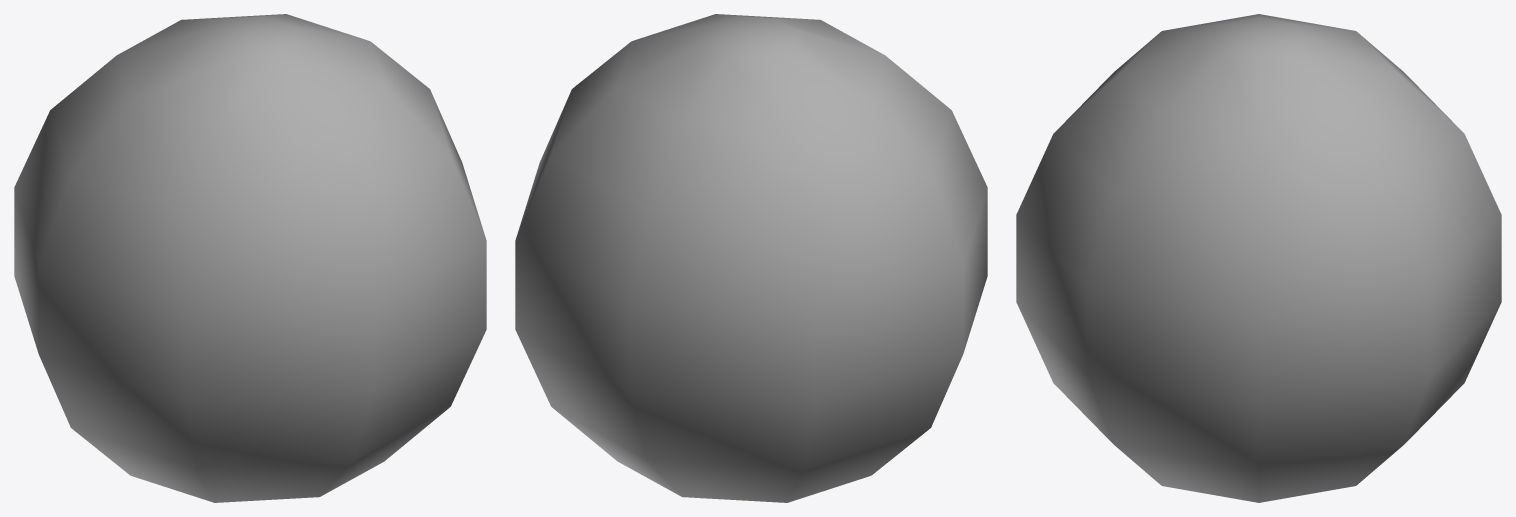
Rendered from Cannonball.fbx.
3 views of the same model, side by side, from view 1: azimuth 30°, elevation 25°; view 2: azimuth 150°, elevation 25°; view 3: azimuth 270°, elevation 25° (orthographic).
Visible parts, largest first — view 1: Cannonball; view 2: Cannonball; view 3: Cannonball.
Boxes of the visible parts, <box> form: Cannonball: <box>14,14,486,502</box>; Cannonball: <box>515,14,987,502</box>; Cannonball: <box>1016,14,1501,502</box>.
Bounding box in the file's own units: 0.0866 × 0.0883 × 0.0866.
1 material, 1 textured.
